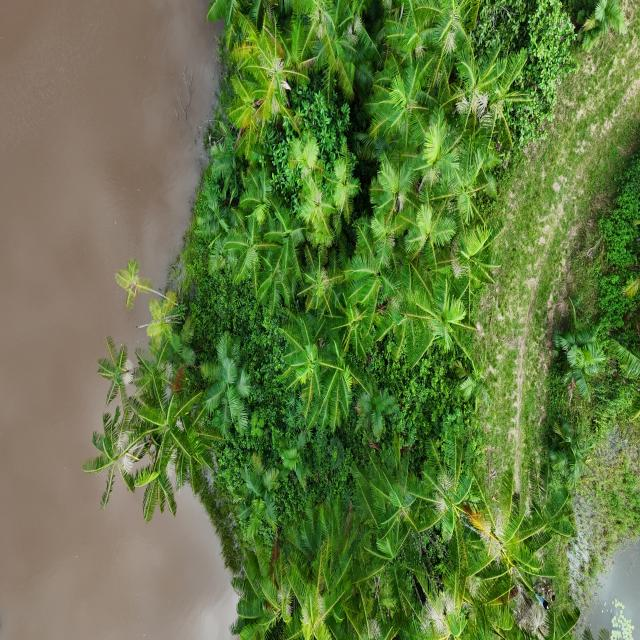vegetation: (83, 1, 628, 638)
